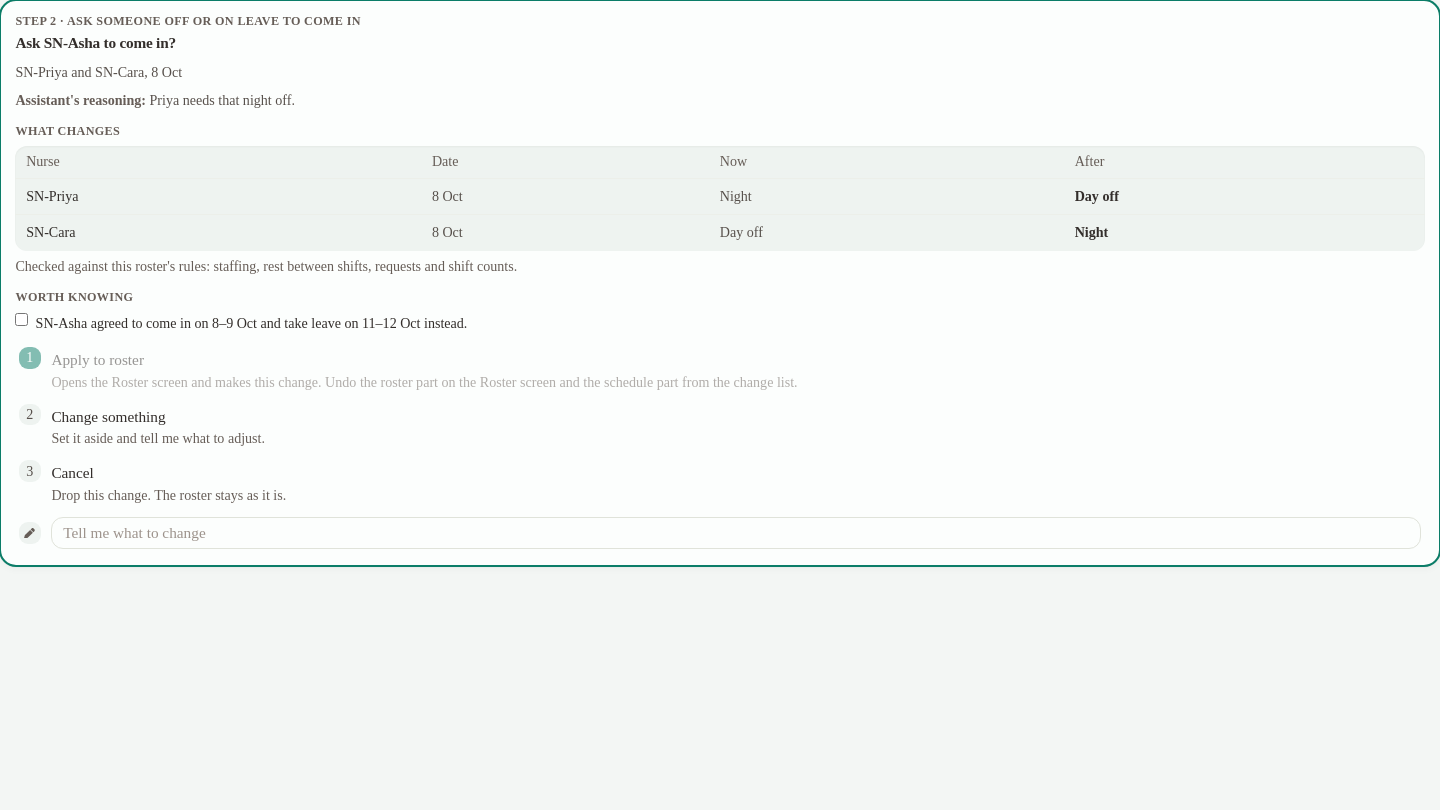
Test: RosterChangeCard › says so plainly when Apply throws
The width and height of the screenshot is (1440, 810).
Step 1. Click the checkbox labelled "SN-Asha agreed" → {"x": 22, "y": 320}, box top-left (15, 313), bottom-right (28, 326)
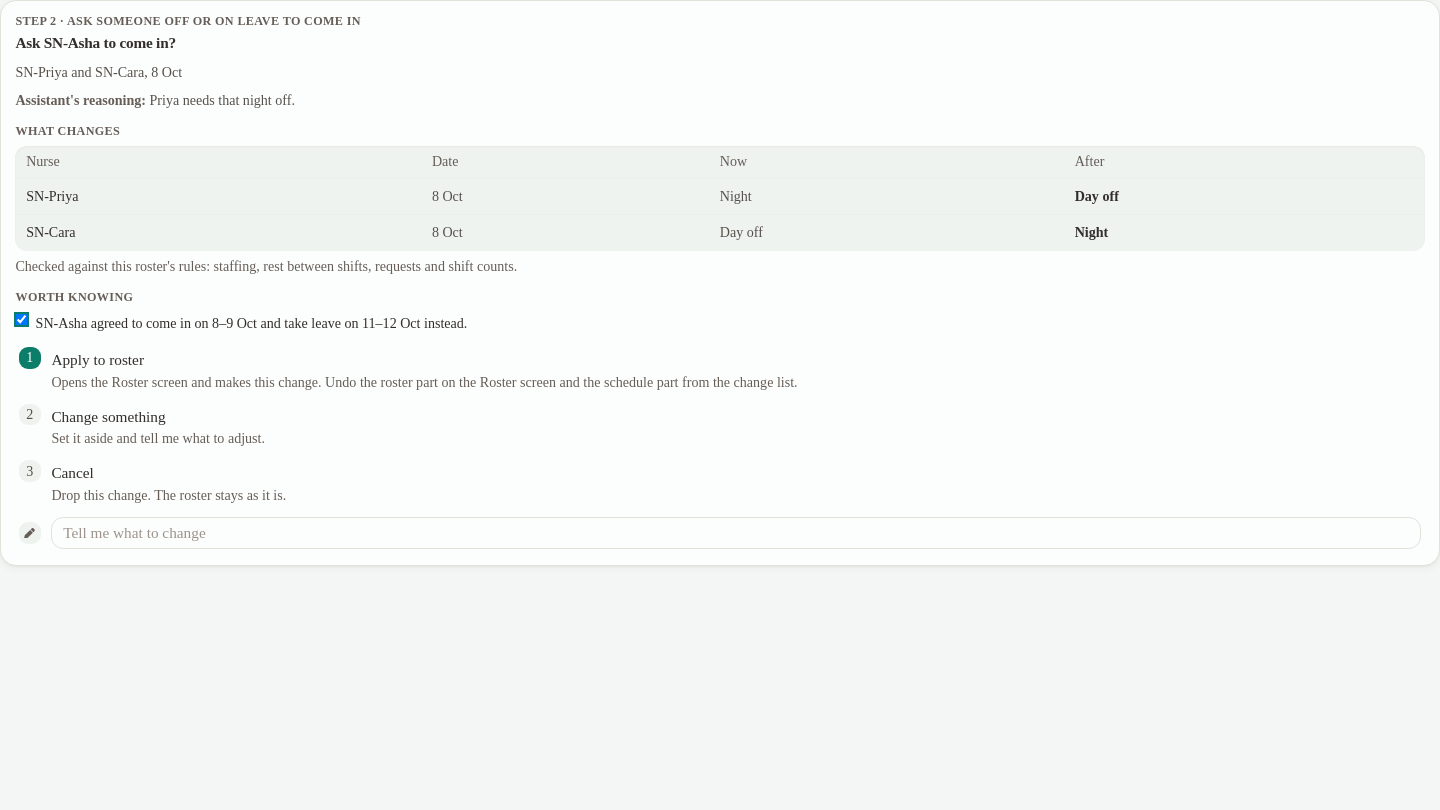
Check: the button with test id "roster-change-apply" is enabled
Step 2. Click the button with test id "roster-change-apply" → {"x": 98, "y": 359}, box top-left (12, 342), bottom-right (1428, 398)
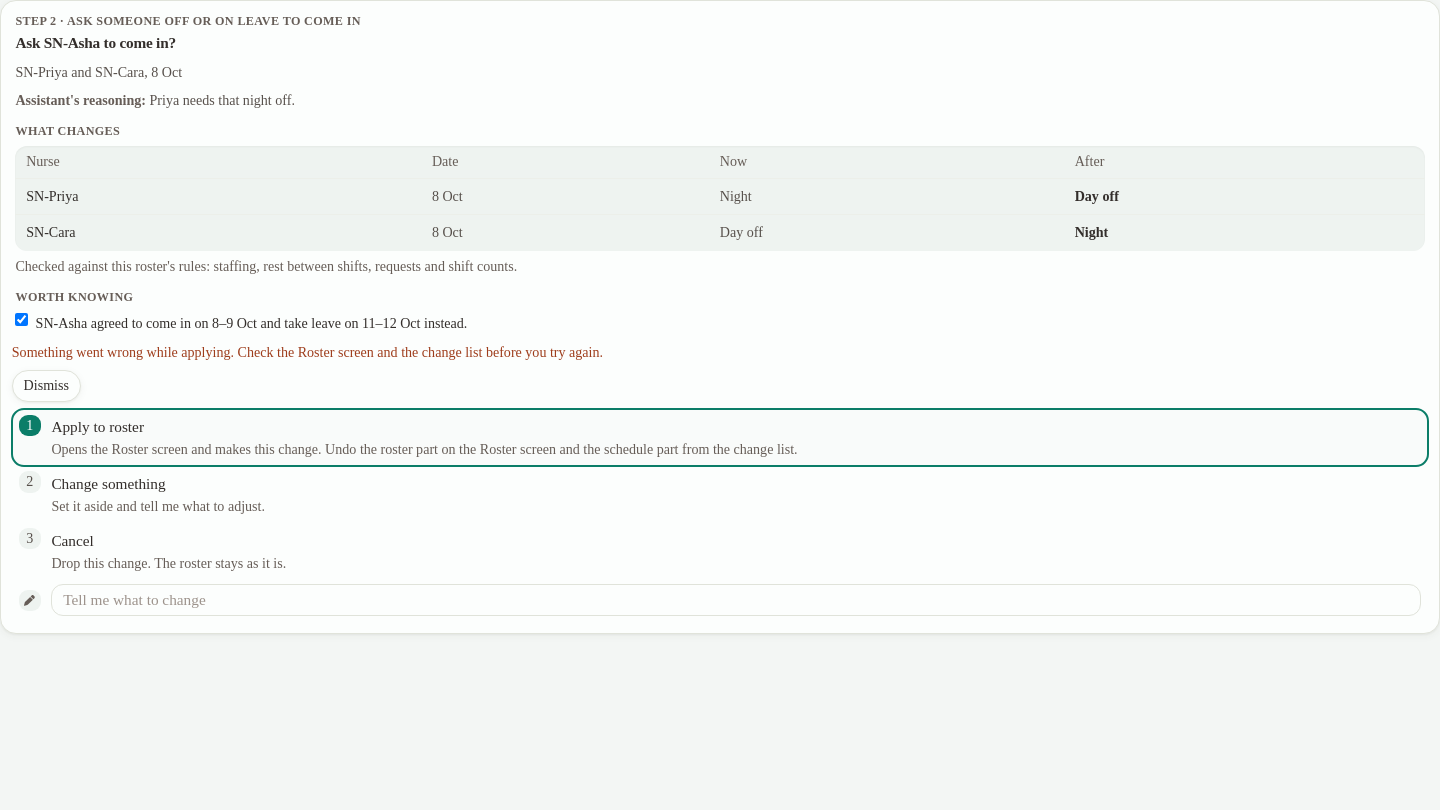
Check: the text "Something went wrong while applying" is shown, box top-left (12, 344), bottom-right (603, 360)
